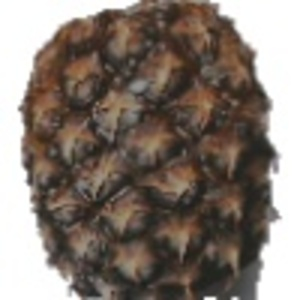abacaxi: (13, 2, 280, 297)
